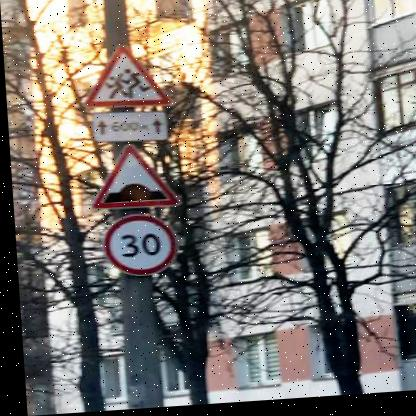Speed Limit -30-: (101, 214, 175, 280)
